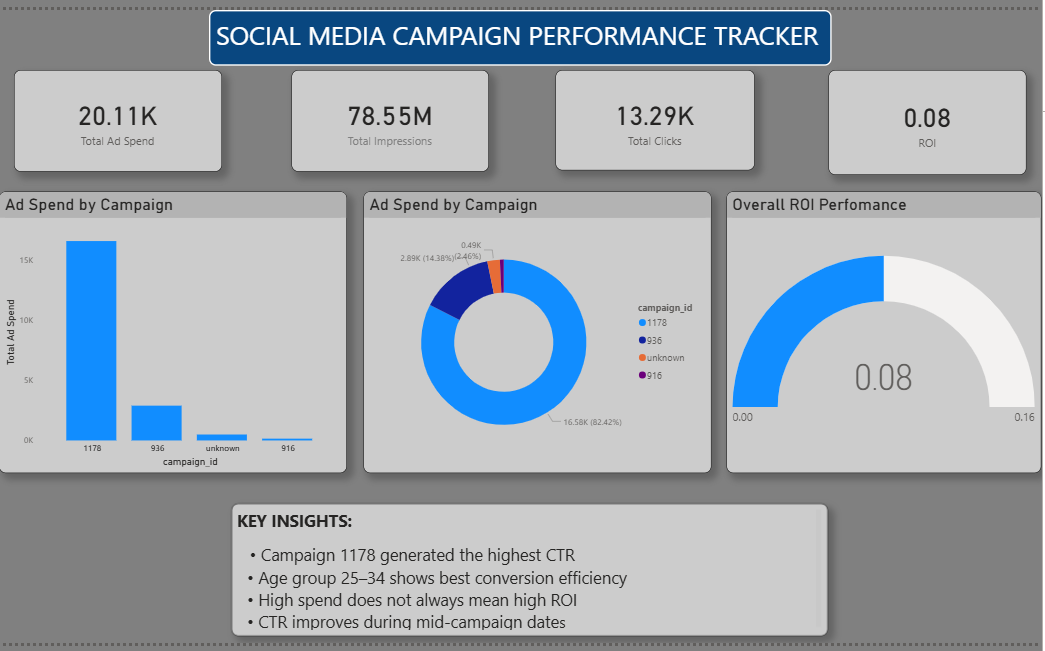

This screenshot's page, from the dashboard's own definition file:
{"tool":"powerbi","page":{"name":"Page 1","canvas":[1511,916],"ordinal":0},"visuals":[{"type":"textbox","box":[227.4,0,963.8,82.3],"z":0},{"type":"card","fields":{"Values":["data.Total Ad Spend"]},"box":[21.7,86.6,301.1,147.3],"z":1000},{"type":"card","fields":{"Values":["data.Total Impressions"]},"box":[424.5,86.6,285.9,147.3],"z":2000},{"type":"card","fields":{"Values":["data.Total Clicks"]},"box":[806.5,86.7,288.3,145.3],"z":3000},{"type":"clusteredColumnChart","title":"Ad Spend by Campaign","fields":{"Category":["data.campaign_id"],"Y":["data.Total Ad Spend"]},"box":[0,264,504,408],"z":4000},{"type":"gauge","title":"Overall ROI Perfomance","fields":{"Y":["data.ROI"]},"box":[1055,264,456,408],"z":5000},{"type":"card","fields":{"Values":["data.ROI"]},"box":[1190.2,80.2,288.3,151.8],"z":6000},{"type":"donutChart","title":" Ad Spend by Campaign","fields":{"Category":["data.campaign_id"],"Y":["data.Total Ad Spend"]},"box":[528,264,504,408],"z":7000},{"type":"textbox","box":[336,715,864,192],"z":8000}]}

Visuals, with their boxes in screenshot pixels (x1, y1, x2, y2), scaled from the page's 1511x916 canvas onto the 1045x651 screenshot:
textbox: Rect(157, 0, 824, 58)
card - data.Total Ad Spend: Rect(15, 62, 223, 166)
card - data.Total Impressions: Rect(294, 62, 491, 166)
card - data.Total Clicks: Rect(558, 62, 757, 165)
"Ad Spend by Campaign" clusteredColumnChart: Rect(0, 188, 349, 478)
"Overall ROI Perfomance" gauge: Rect(730, 188, 1044, 478)
card - data.ROI: Rect(823, 57, 1023, 165)
" Ad Spend by Campaign" donutChart: Rect(365, 188, 714, 478)
textbox: Rect(232, 508, 830, 645)
